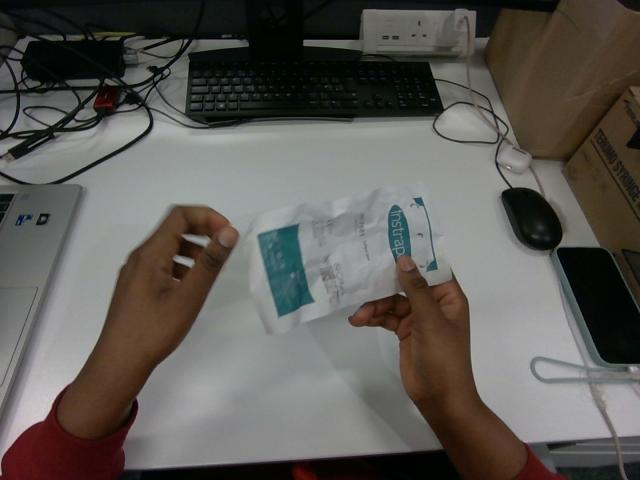gallipot: (245, 183, 451, 333)
